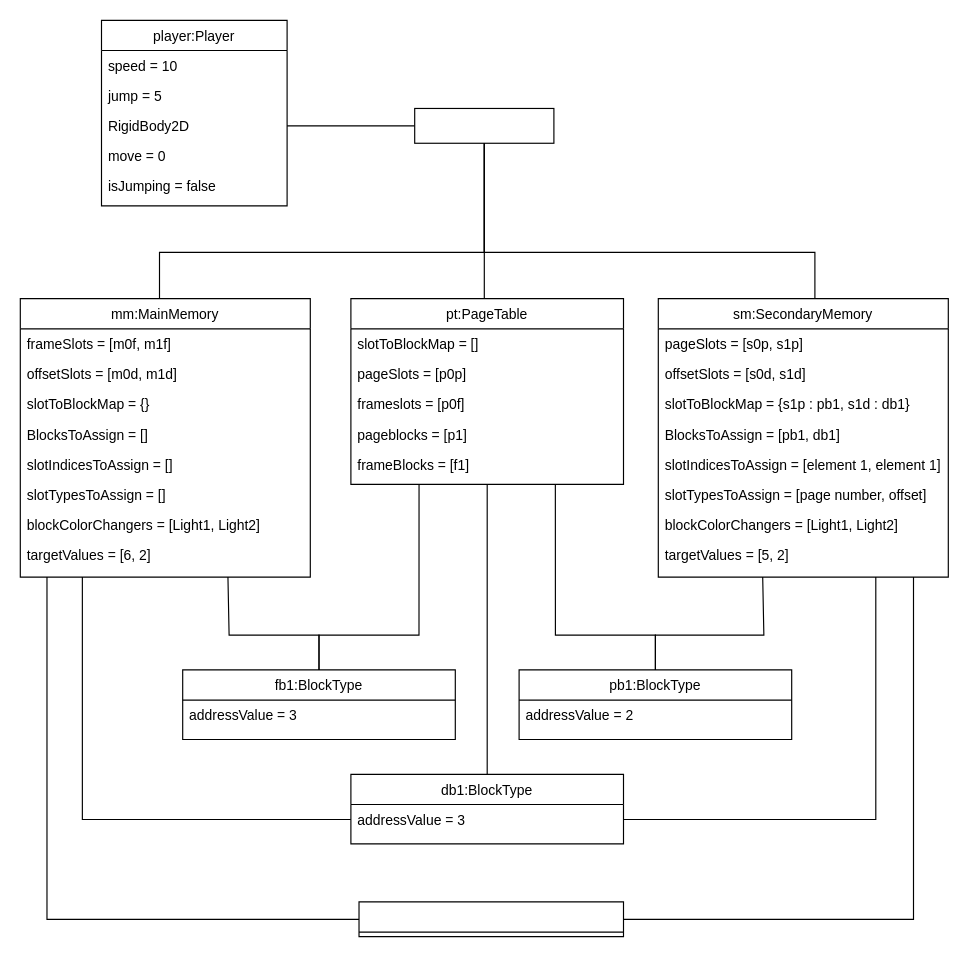
This 969x957 diagram has some shape labels left out. Each missing label, with the centre of its shape:
BlockColorChanger: the point at 491,919
Scene: the point at 484,125
